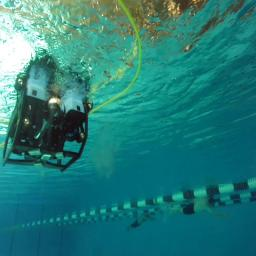front: (3, 77, 93, 180)
